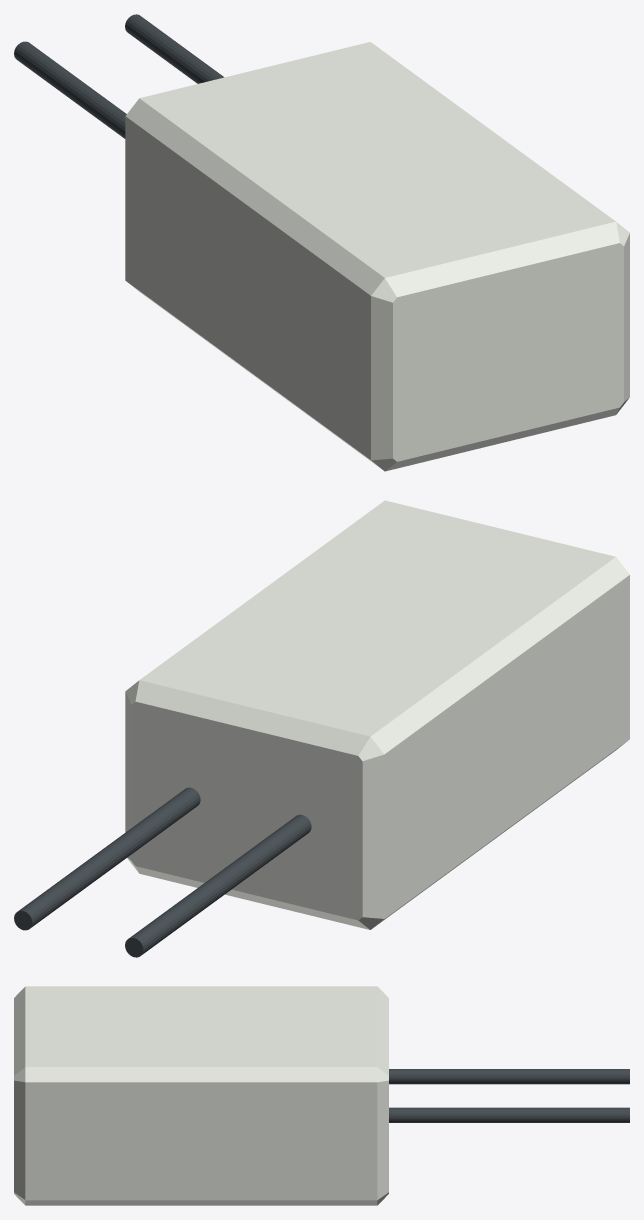
File: boiler.obj
The picture shows the model from 3 angles, top to bottom: view 1: azimuth 30°, elevation 25°; view 2: azimuth 150°, elevation 25°; view 3: azimuth 270°, elevation 25°; orthographic projection. The views are drawn at different scales.
Visible parts, largest first — view 1: boiler_ceramic, boiler_metal; view 2: boiler_ceramic, boiler_metal; view 3: boiler_ceramic, boiler_metal.
Part boxes in pixels (x1,y1,x2,y2): boiler_ceramic: (125, 42, 629, 471); boiler_metal: (14, 14, 224, 138); boiler_ceramic: (125, 500, 629, 929); boiler_metal: (14, 787, 311, 957); boiler_ceramic: (14, 986, 388, 1205); boiler_metal: (389, 1069, 629, 1122).
Bounding box in the file's own units: 28 × 20 × 80.5.
2 materials, 2 textured.
